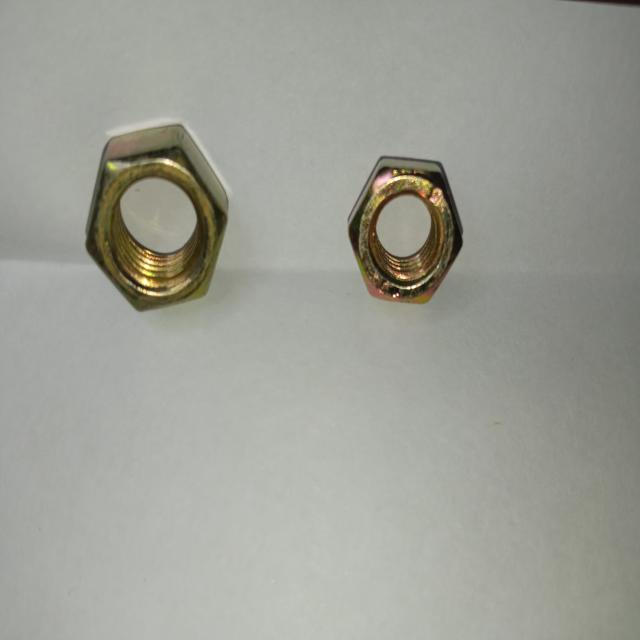m10: (85, 131, 226, 307)
m8: (348, 163, 454, 306)
